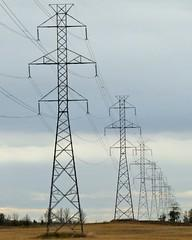power_tower: (32, 2, 96, 235), (106, 93, 138, 225), (132, 136, 153, 224)
